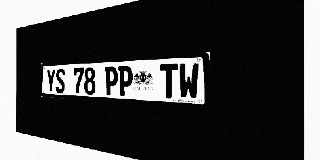7: (73, 68, 84, 94)
8: (84, 67, 96, 95)
P: (118, 66, 133, 96), (105, 66, 118, 96)
S: (56, 68, 65, 93)
T: (160, 64, 178, 99)
W: (179, 63, 199, 100)
Y: (46, 69, 55, 93)
